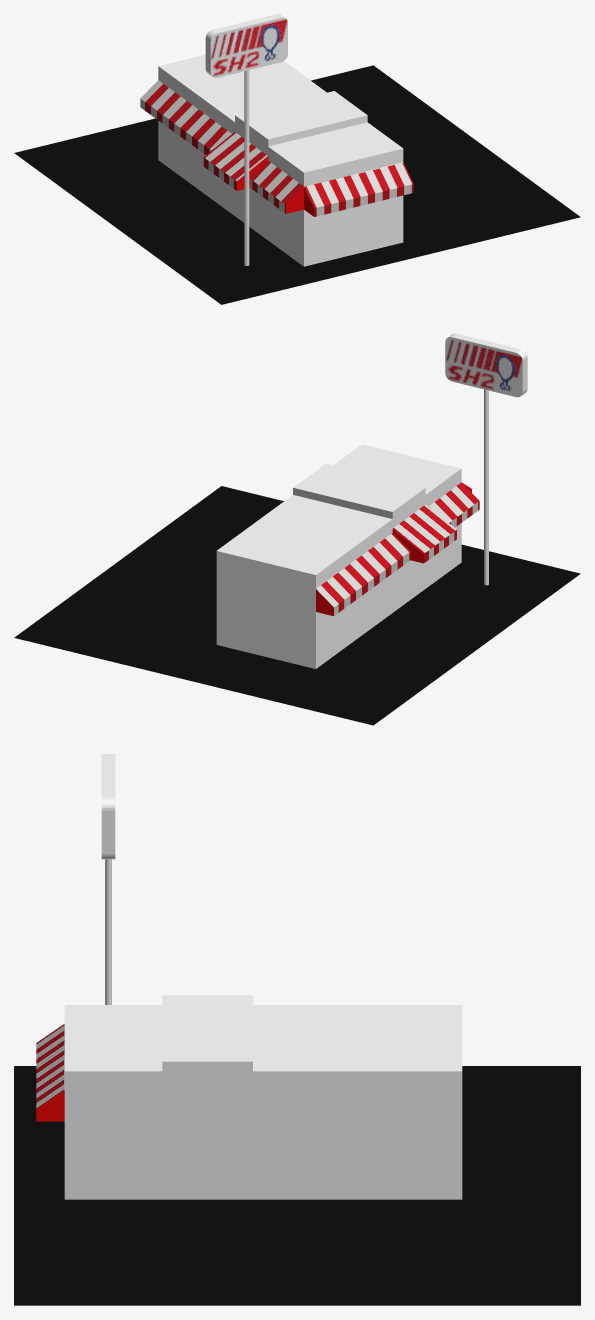
The model's file is 08_kfcn.obj.
3 views of the same model, one above another, from view 1: azimuth 30°, elevation 25°; view 2: azimuth 150°, elevation 25°; view 3: azimuth 270°, elevation 25° (orthographic). The views are drawn at different scales.
Parts seen in each view (by area): view 1: 08_kfcn_Plane.003; view 2: 08_kfcn_Plane.003; view 3: 08_kfcn_Plane.003.
Boxes of the visible parts, <box> form: 08_kfcn_Plane.003: <box>14,14,580,304</box>; 08_kfcn_Plane.003: <box>14,333,580,725</box>; 08_kfcn_Plane.003: <box>14,754,580,1305</box>.
Bounding box in the file's own units: 4.48 × 2.87 × 4.48.
